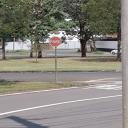Pare: (49, 36, 62, 47)
